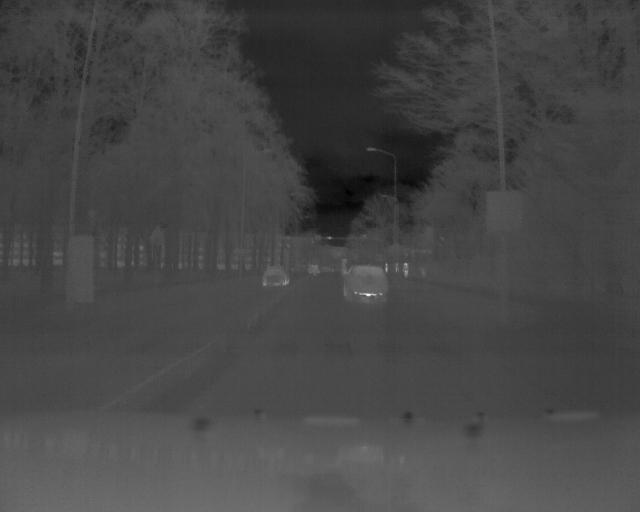car: (337, 260, 390, 304), (259, 265, 289, 288)
person: (402, 260, 410, 280)
